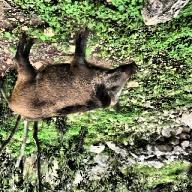boar: (0, 27, 138, 123)
